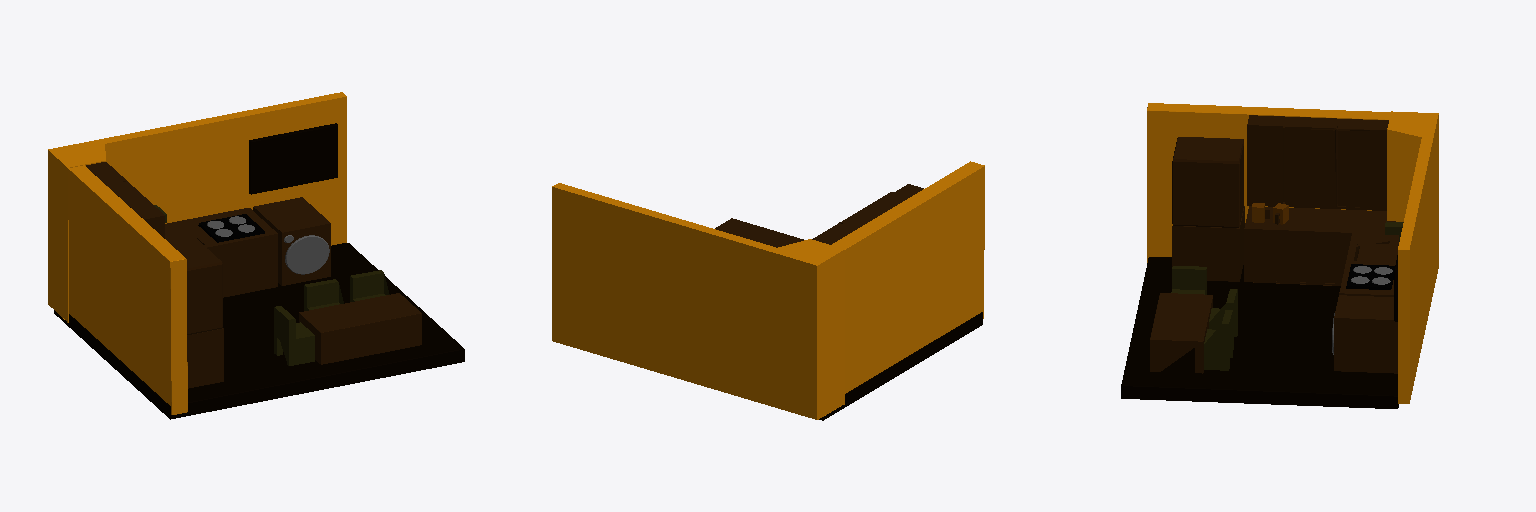
File: kitchen.obj
The picture shows the model from 3 angles: view 1: azimuth 30°, elevation 25°; view 2: azimuth 150°, elevation 25°; view 3: azimuth 270°, elevation 25°; orthographic projection.
Visible parts, largest first — view 1: Cube.001, Cube.002, Cube, Cube.003, Cube.018, Cube.015, Cube.004, Cube.019, Cube.005, Cylinder.004, Cube.020, Cube.021 (+1 smaller); view 2: Cube.001, Cube.002, Cube, Cube.005, Cube.018; view 3: Cube, Cube.003, Cube.005, Cube.001, Cube.002, Cube.004, Cube.018, Cube.021, Cube.019, Cube.017, Cube.020.
Boxes of the visible parts, x1,y1,x2,y2 form: Cube.001: [48, 92, 346, 322]; Cube.002: [68, 165, 187, 414]; Cube: [54, 243, 464, 419]; Cube.003: [165, 197, 330, 388]; Cube.018: [299, 293, 421, 364]; Cube.015: [249, 123, 337, 194]; Cube.004: [169, 237, 222, 334]; Cube.019: [274, 306, 314, 365]; Cube.005: [86, 162, 164, 238]; Cylinder.004: [285, 235, 329, 274]; Cube.020: [304, 279, 343, 310]; Cube.021: [350, 270, 389, 301]; Cube.001: [552, 183, 844, 419]; Cube.002: [832, 161, 984, 393]; Cube: [819, 312, 982, 420]; Cube.005: [812, 192, 909, 244]; Cube.018: [715, 218, 803, 247]; Cube: [1121, 257, 1398, 408]; Cube.003: [1172, 206, 1398, 373]; Cube.005: [1247, 115, 1388, 210]; Cube.001: [1387, 111, 1438, 403]; Cube.002: [1147, 103, 1390, 262]; Cube.004: [1172, 137, 1243, 227]; Cube.018: [1150, 293, 1212, 373]; Cube.021: [1204, 310, 1232, 370]; Cube.019: [1171, 266, 1206, 294]; Cube.017: [1346, 264, 1394, 289]; Cube.020: [1209, 289, 1237, 349].
Size of the model in its own units: 67.04 by 33.75 by 60.88.